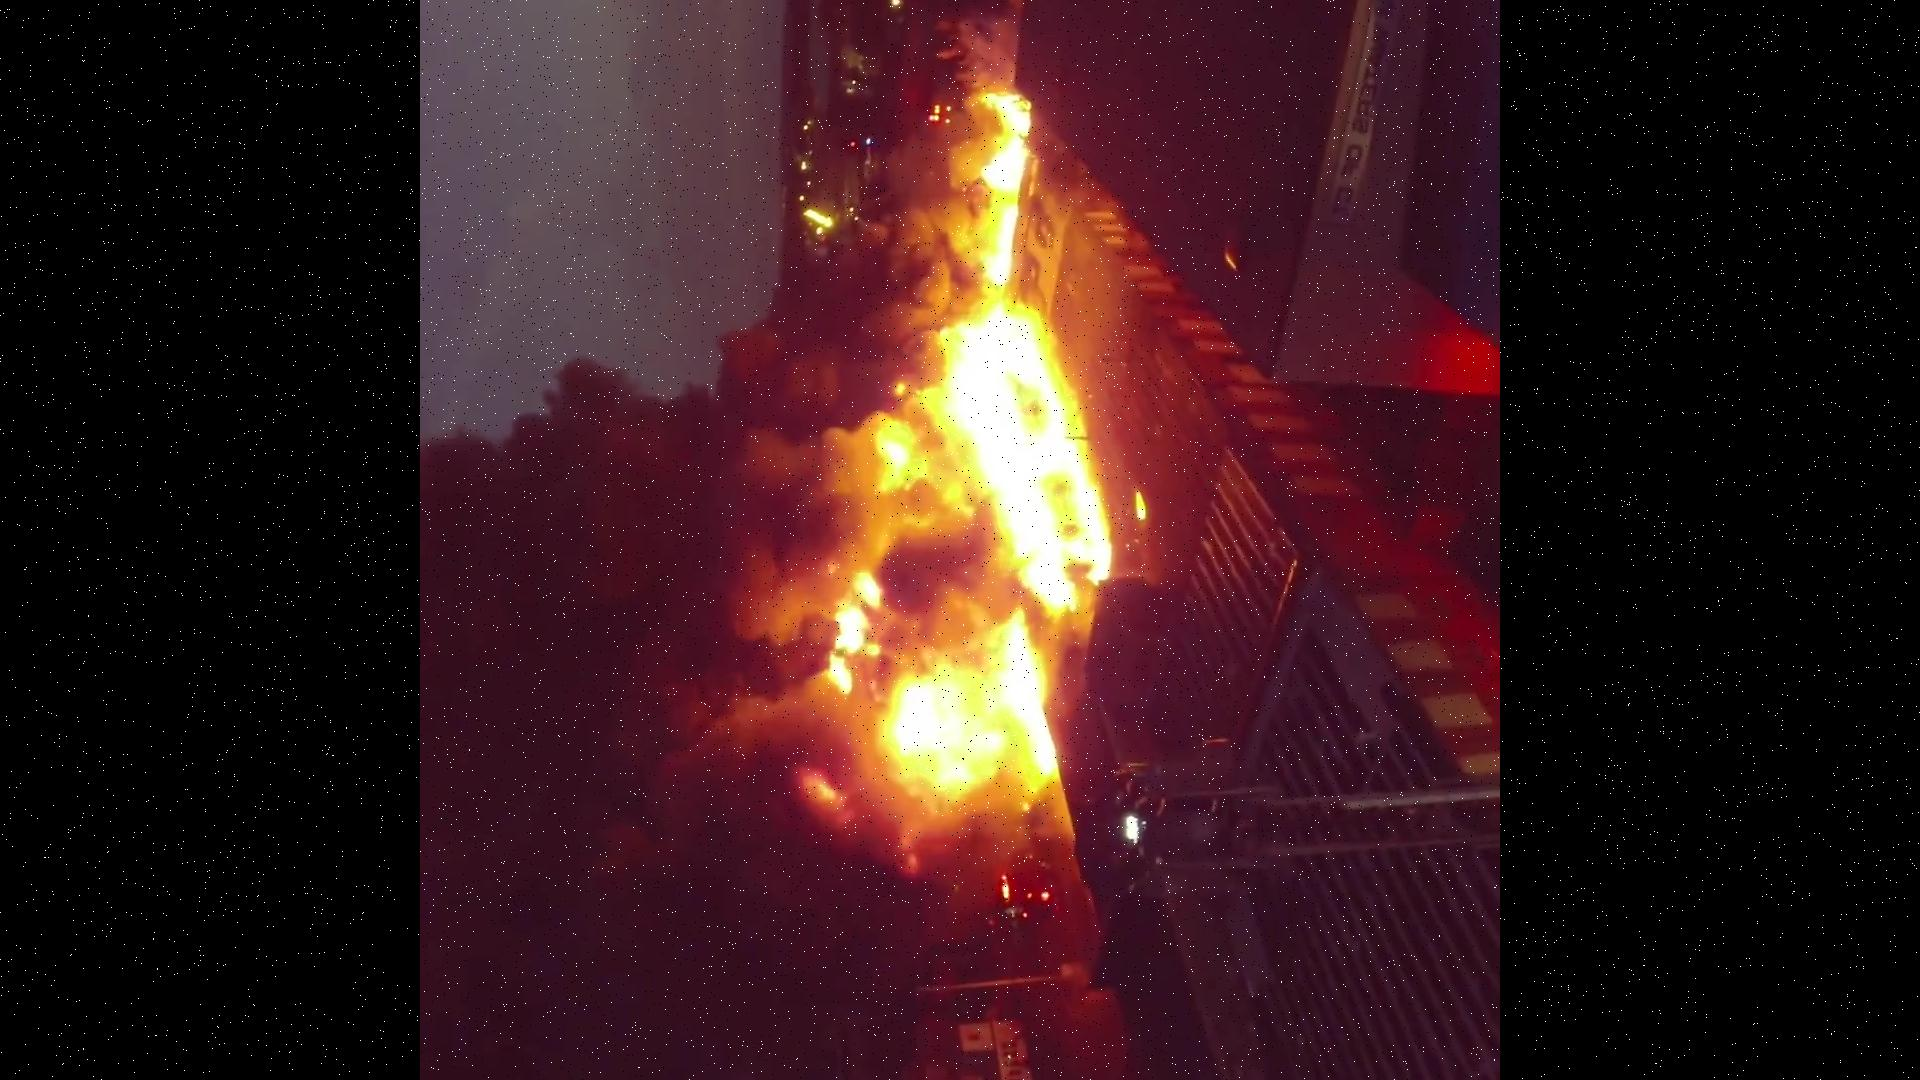fire: (727, 113, 1122, 841)
